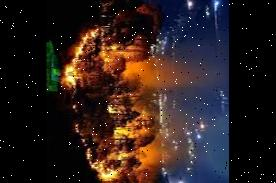fire: (68, 14, 148, 182)
